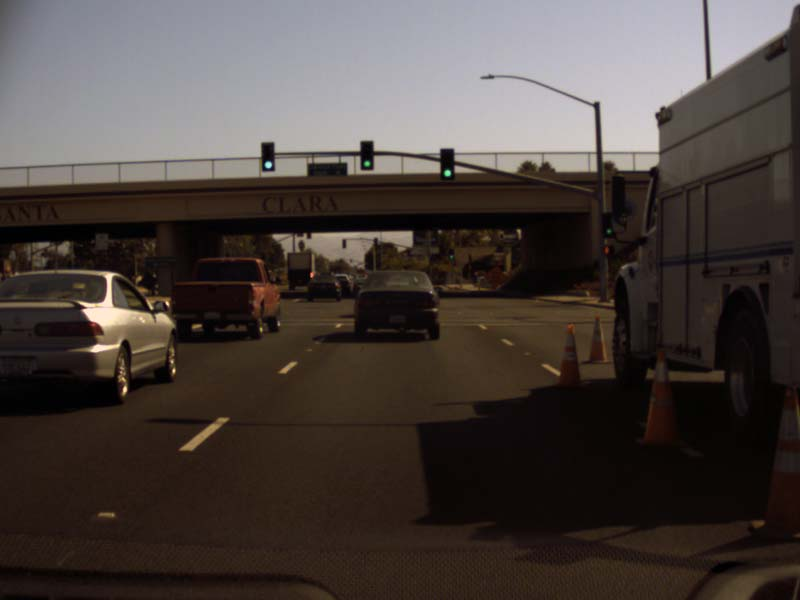Green: (260, 142, 275, 172), (440, 148, 453, 180), (360, 139, 372, 169), (601, 212, 613, 238), (448, 248, 454, 259)
